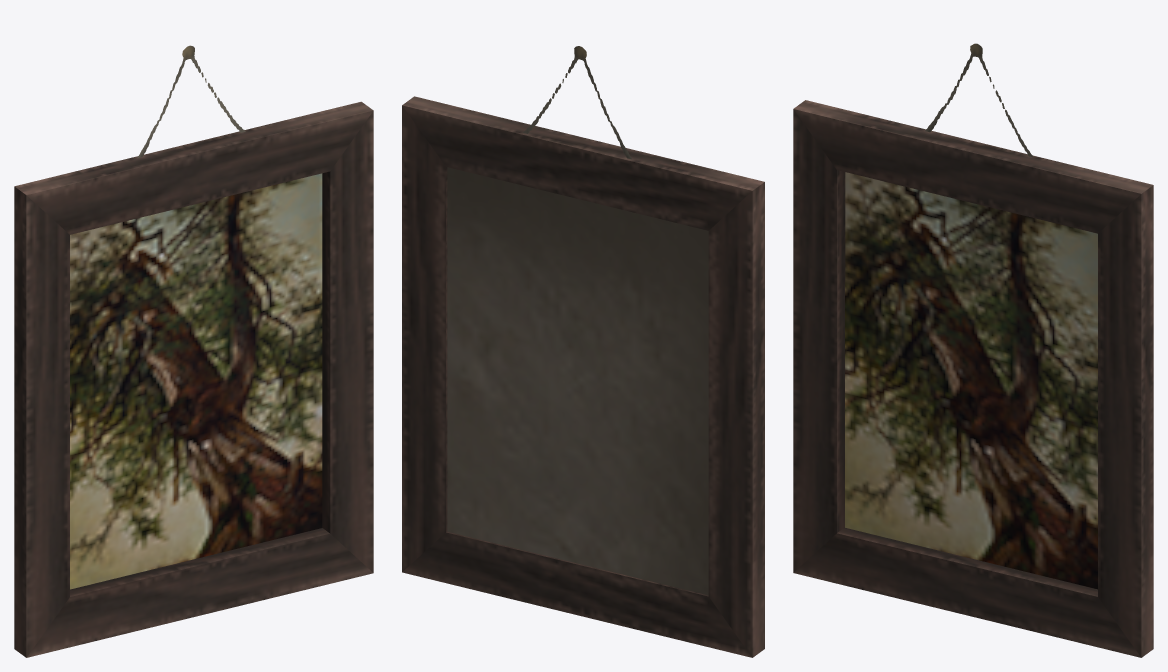
File: Picture.Big_2.fbx
The picture shows the model from 3 angles, left to right: view 1: azimuth 30°, elevation 25°; view 2: azimuth 150°, elevation 25°; view 3: azimuth 330°, elevation 25°; orthographic projection.
Visible parts, largest first — view 1: Picture.Big_2; view 2: Picture.Big_2; view 3: Picture.Big_2.
Boxes of the visible parts, <box> form: Picture.Big_2: <box>14,45,373,657</box>; Picture.Big_2: <box>402,46,764,657</box>; Picture.Big_2: <box>793,43,1153,657</box>.
Size of the model in its own units: 59.29 by 93.79 by 3.61.
